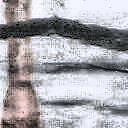crackTip: (1, 14, 128, 50)
